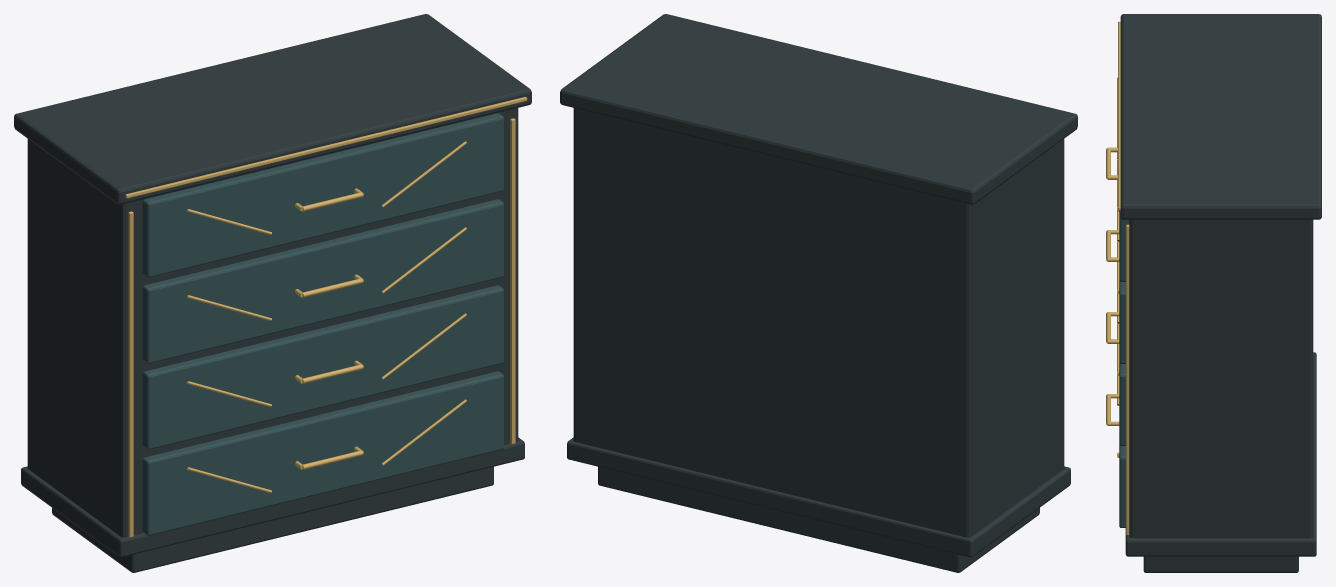
File: dresser_art_deco.glb
3 renders of one model, left to right at view 1: azimuth 30°, elevation 25°; view 2: azimuth 150°, elevation 25°; view 3: azimuth 270°, elevation 25°, orthographic. The views are drawn at different scales.
Parts seen in each view (by area): view 1: Art Deco dresser closed cabinet, Art Deco dresser overhanging top, Art Deco drawer 2 closed drawer face, Art Deco drawer 1 closed drawer face, Art Deco drawer 3 closed drawer face, Art Deco drawer 4 closed drawer face, Art Deco dresser base molding, Art Deco grounded recessed plinth, Art Deco top gold edge stripe, Art Deco narrow gold corner stripe, Art Deco narrow gold corner stripe.001; view 2: Art Deco dresser closed cabinet, Art Deco dresser overhanging top, Art Deco dresser base molding, Art Deco grounded recessed plinth; view 3: Art Deco dresser closed cabinet, Art Deco dresser overhanging top, Art Deco dresser base molding, Art Deco grounded recessed plinth, Art Deco narrow gold corner stripe.001, Art Deco drawer 1 closed drawer face, Art Deco drawer 2 closed drawer face, Art Deco drawer 3 closed drawer face, Art Deco top gold edge stripe, Art Deco drawer 4 closed drawer face.
Boxes of the visible parts, x1,y1,x2,y2 form: Art Deco dresser closed cabinet: (27,108,518,537); Art Deco dresser overhanging top: (14,14,531,204); Art Deco drawer 2 closed drawer face: (142,285,503,449); Art Deco drawer 1 closed drawer face: (142,371,503,535); Art Deco drawer 3 closed drawer face: (142,199,503,363); Art Deco drawer 4 closed drawer face: (142,113,503,277); Art Deco dresser base molding: (21,437,524,557); Art Deco grounded recessed plinth: (52,466,493,572); Art Deco top gold edge stripe: (125,97,527,198); Art Deco narrow gold corner stripe: (128,211,133,537); Art Deco narrow gold corner stripe.001: (510,118,515,444); Art Deco dresser closed cabinet: (573,108,1064,537); Art Deco dresser overhanging top: (560,14,1077,204); Art Deco dresser base molding: (567,437,1070,557); Art Deco grounded recessed plinth: (598,466,1039,572); Art Deco dresser closed cabinet: (1129,219,1313,538); Art Deco dresser overhanging top: (1120,14,1321,219); Art Deco dresser base molding: (1125,352,1316,556); Art Deco grounded recessed plinth: (1143,556,1298,572); Art Deco narrow gold corner stripe.001: (1126,224,1129,535); Art Deco drawer 1 closed drawer face: (1119,444,1125,527); Art Deco drawer 2 closed drawer face: (1119,362,1125,445); Art Deco drawer 3 closed drawer face: (1119,280,1125,363); Art Deco top gold edge stripe: (1118,21,1120,210); Art Deco drawer 4 closed drawer face: (1119,211,1129,281).
Size of the model in its own units: 1.19 by 1.09 by 0.563.
